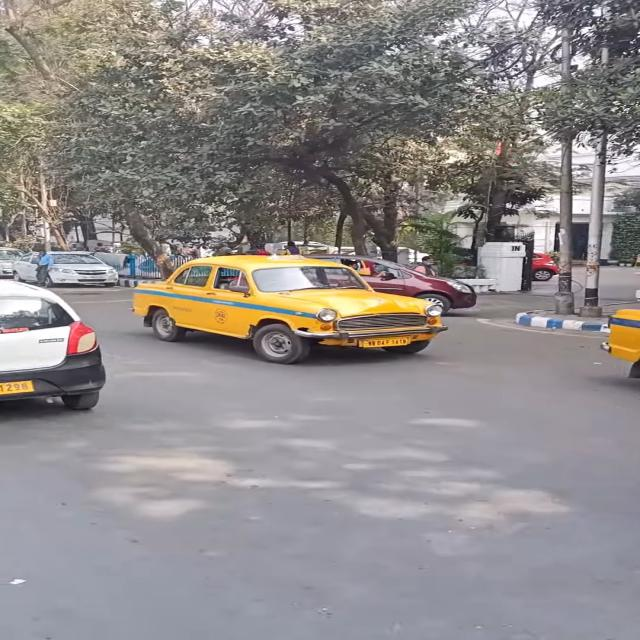Taxi: (117, 253, 446, 363)
